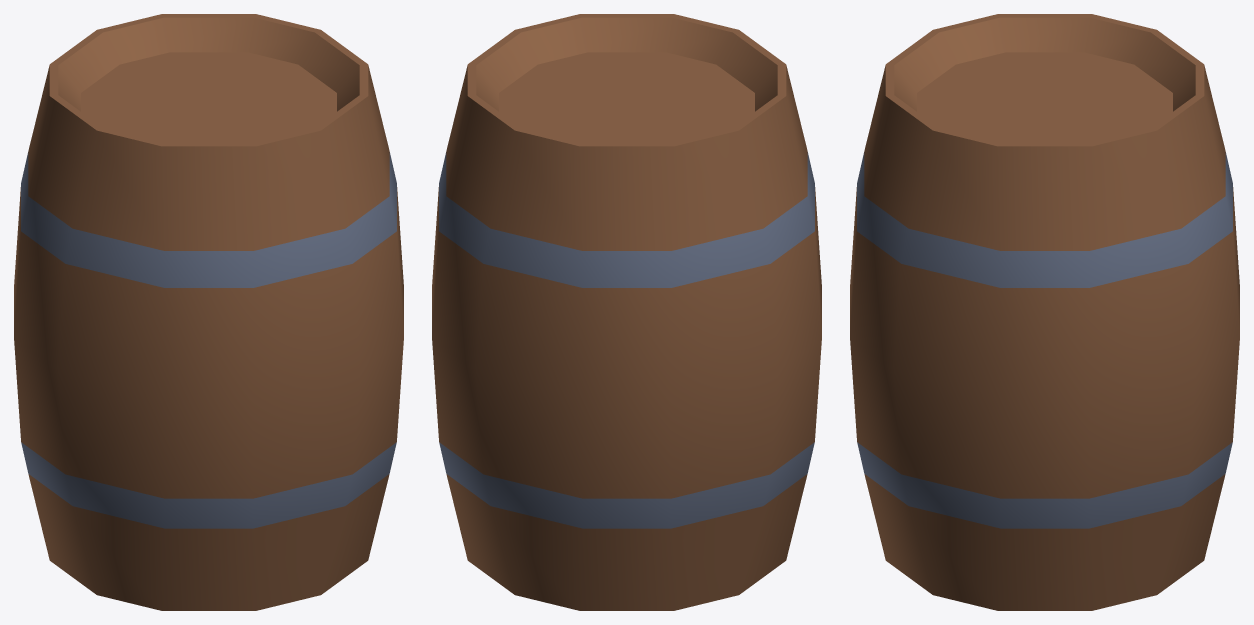
The model's file is Barrel.fbx.
The picture shows the model from 3 angles, left to right: view 1: azimuth 30°, elevation 25°; view 2: azimuth 150°, elevation 25°; view 3: azimuth 270°, elevation 25°; orthographic projection.
Visible parts, largest first — view 1: Barrel; view 2: Barrel; view 3: Barrel.
Boxes of the visible parts, <box> form: Barrel: <box>14,14,403,610</box>; Barrel: <box>432,14,821,610</box>; Barrel: <box>850,14,1239,610</box>.
Size of the model in its own units: 78.99 by 101 by 77.1.
